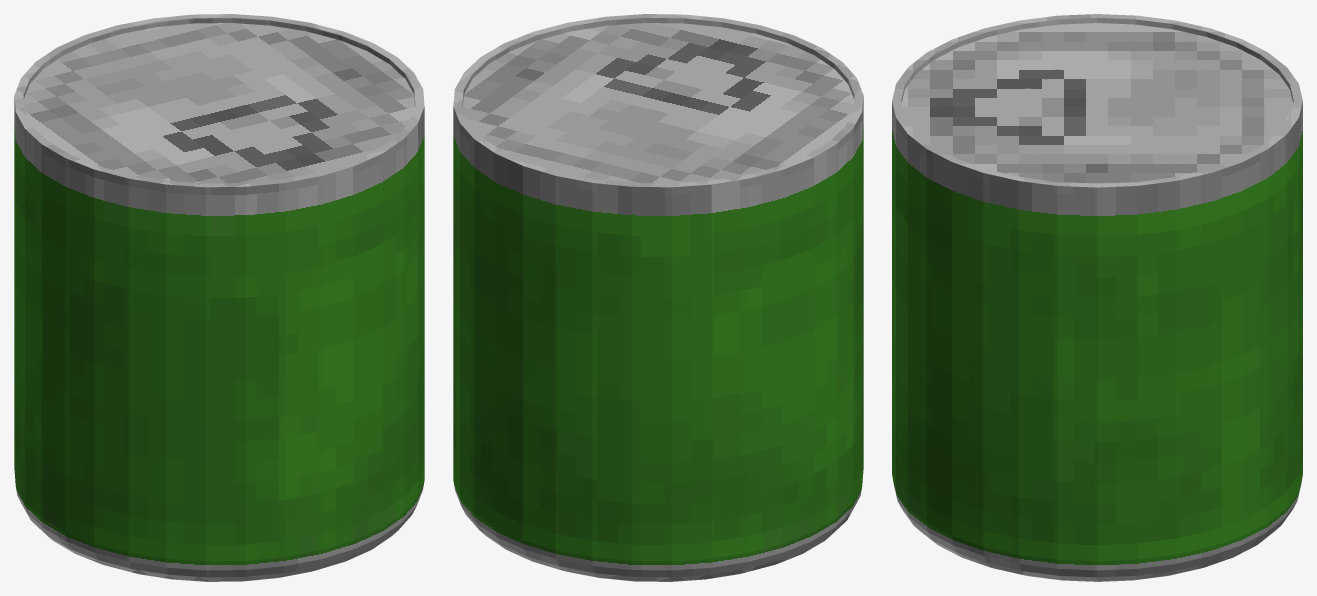
File: Can_03.obj
3 views of the same model, side by side, from view 1: azimuth 30°, elevation 25°; view 2: azimuth 150°, elevation 25°; view 3: azimuth 270°, elevation 25° (orthographic).
Visible parts, largest first — view 1: Can_3; view 2: Can_3; view 3: Can_3.
Boxes of the visible parts, x1=… form: Can_3: x1=14, y1=14, x2=424, y2=581; Can_3: x1=453, y1=14, x2=863, y2=581; Can_3: x1=892, y1=14, x2=1302, y2=581.
Size of the model in its own units: 1.56 by 1.7 by 1.56.
